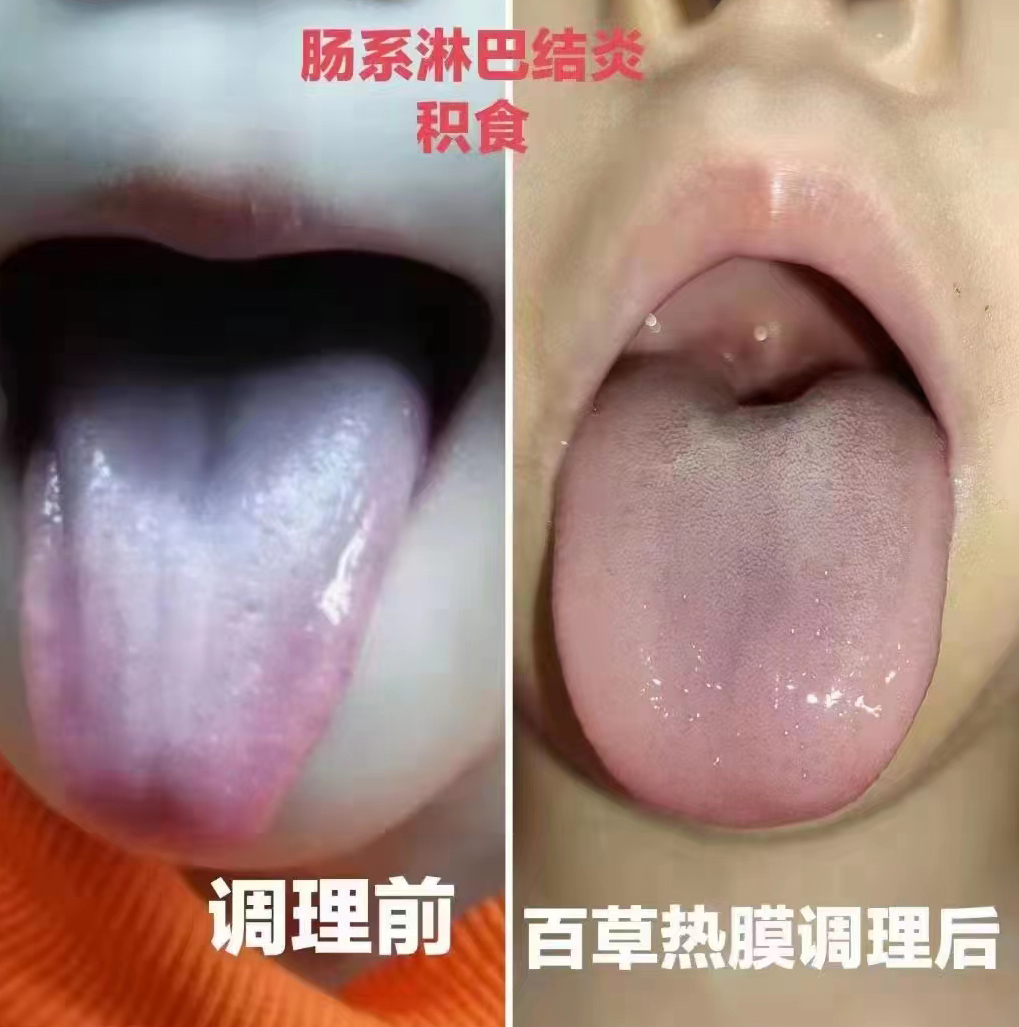baitaishe: (10, 353, 424, 855), (552, 359, 951, 828)
shenquao: (657, 359, 863, 436)
